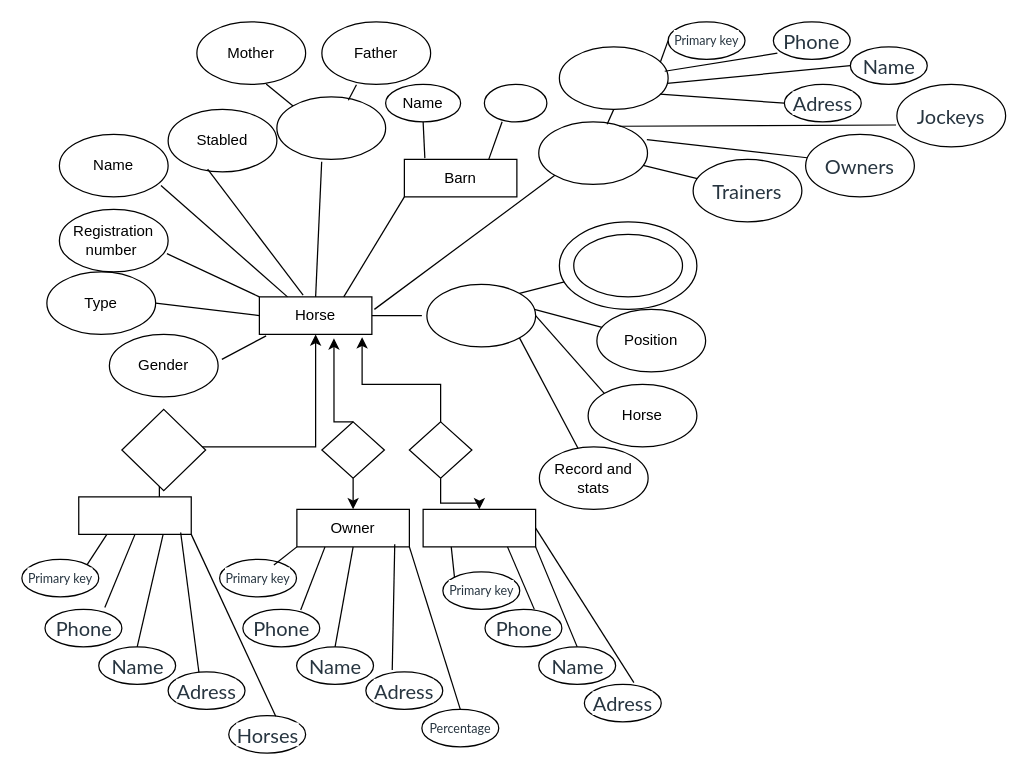
Image size: 1028x775. Some labels were removed from this diagram. Here are the shapes that lost their labels. From the top down, the box of each, then its label:
(558, 46, 668, 109): Data of people
(483, 83, 547, 122): Barn Id
(276, 96, 386, 159): Heritage
(538, 121, 648, 184): People involved (Foreign keys)
(572, 233, 682, 297): Amount
(426, 283, 536, 347): Races
(121, 408, 206, 491): Training
(321, 421, 384, 478): Own to
(408, 421, 472, 478): Ride
(78, 496, 191, 534): Trainer
(422, 508, 536, 547): Jockey
